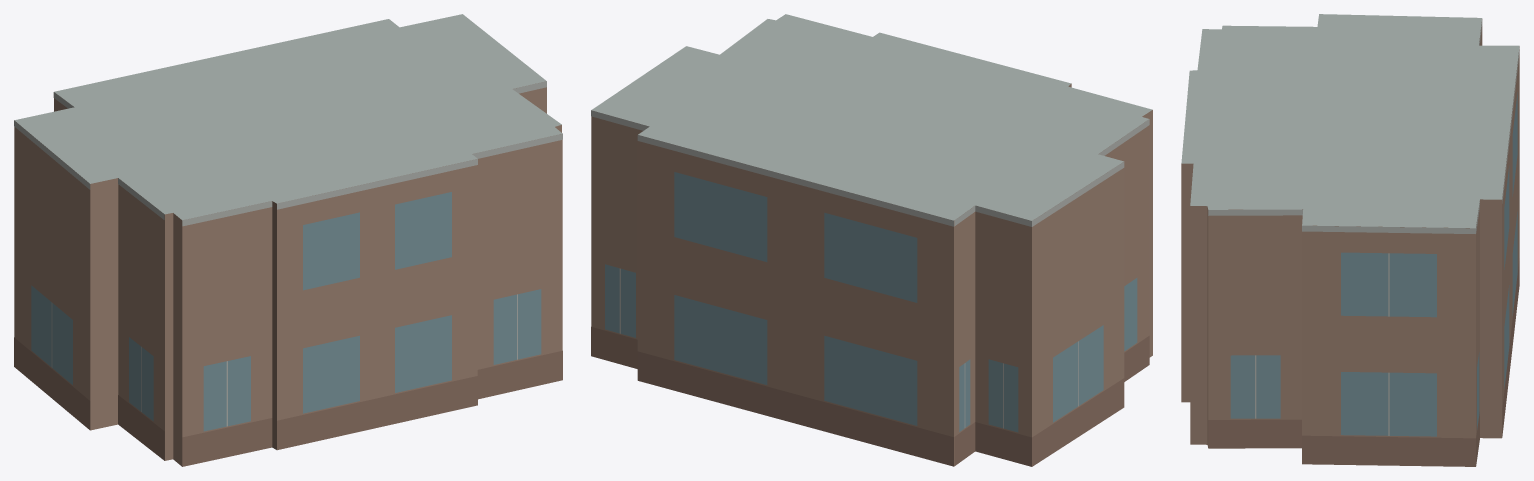
File: survey-upis-32976470.glb
The picture shows the model from 3 angles, left to right: view 1: azimuth 30°, elevation 25°; view 2: azimuth 150°, elevation 25°; view 3: azimuth 270°, elevation 25°; orthographic projection. The views are drawn at different scales.
Visible parts, largest first — view 1: survey-upis-32976470.tmp; view 2: survey-upis-32976470.tmp; view 3: survey-upis-32976470.tmp.
Boxes of the visible parts, left/top/right/bottom form: survey-upis-32976470.tmp: left=14, top=14, right=562, bottom=466; survey-upis-32976470.tmp: left=591, top=14, right=1152, bottom=466; survey-upis-32976470.tmp: left=1181, top=14, right=1519, bottom=466.
Bounding box in the file's own units: 18.87 × 9.8 × 12.6.
